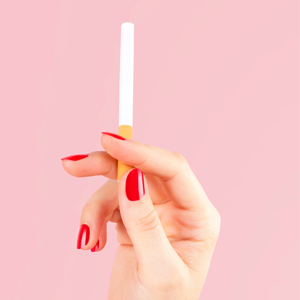cigarette: (115, 21, 139, 184)
